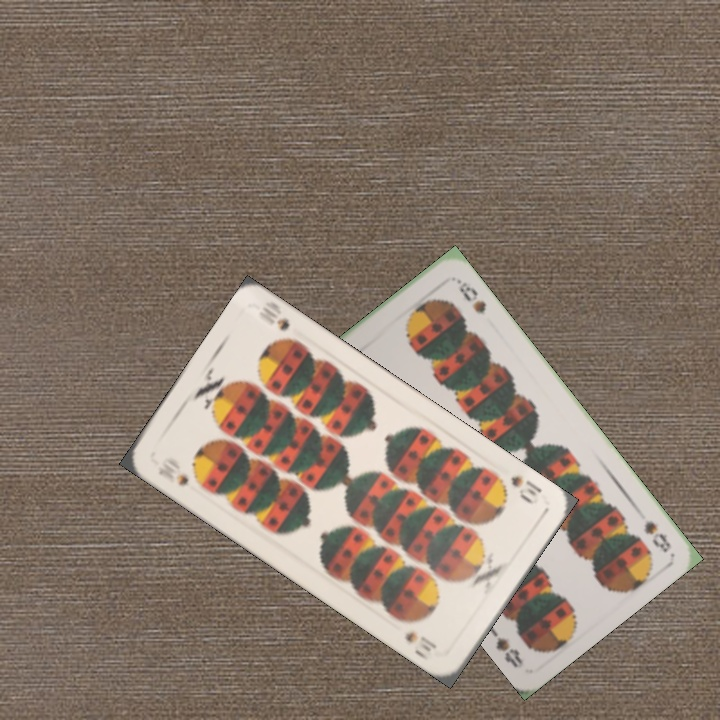S10: (506, 472, 545, 508), (153, 462, 191, 489)
S8: (640, 517, 674, 555)
